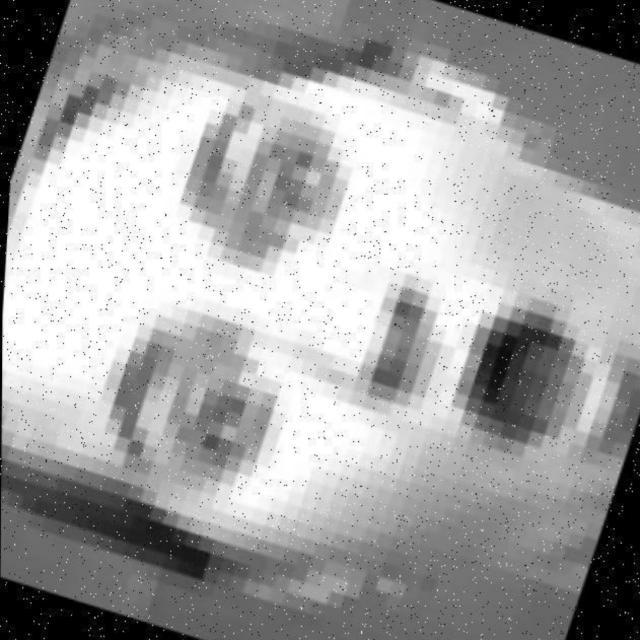Surprised: (36, 49, 640, 640)
